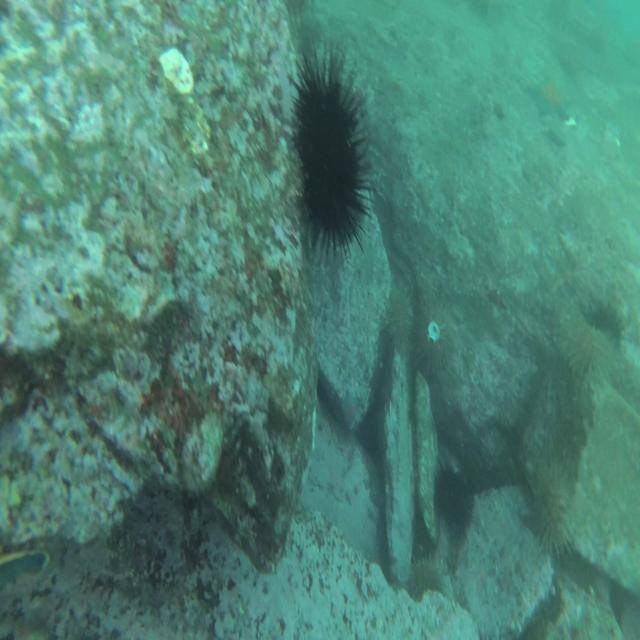echinus: (285, 52, 371, 257), (526, 457, 572, 557), (411, 286, 456, 378), (561, 318, 616, 384), (431, 457, 473, 530), (386, 280, 416, 353), (408, 546, 448, 600)
starfish: (526, 69, 576, 120)
